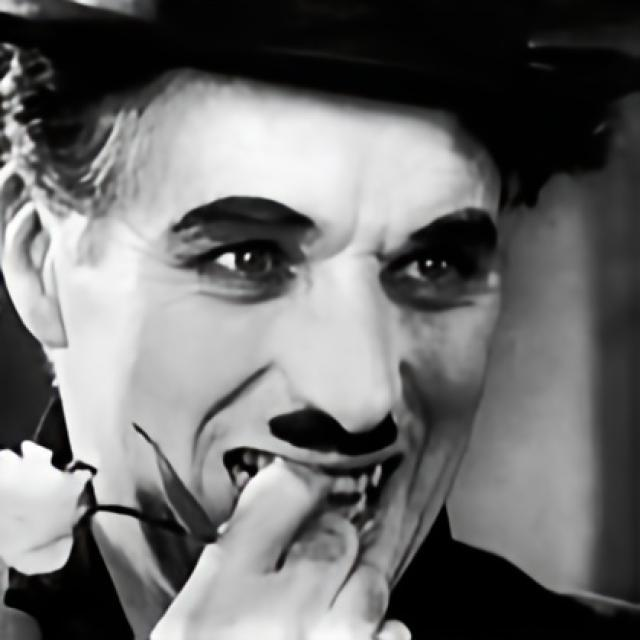fear: (70, 64, 504, 629)
